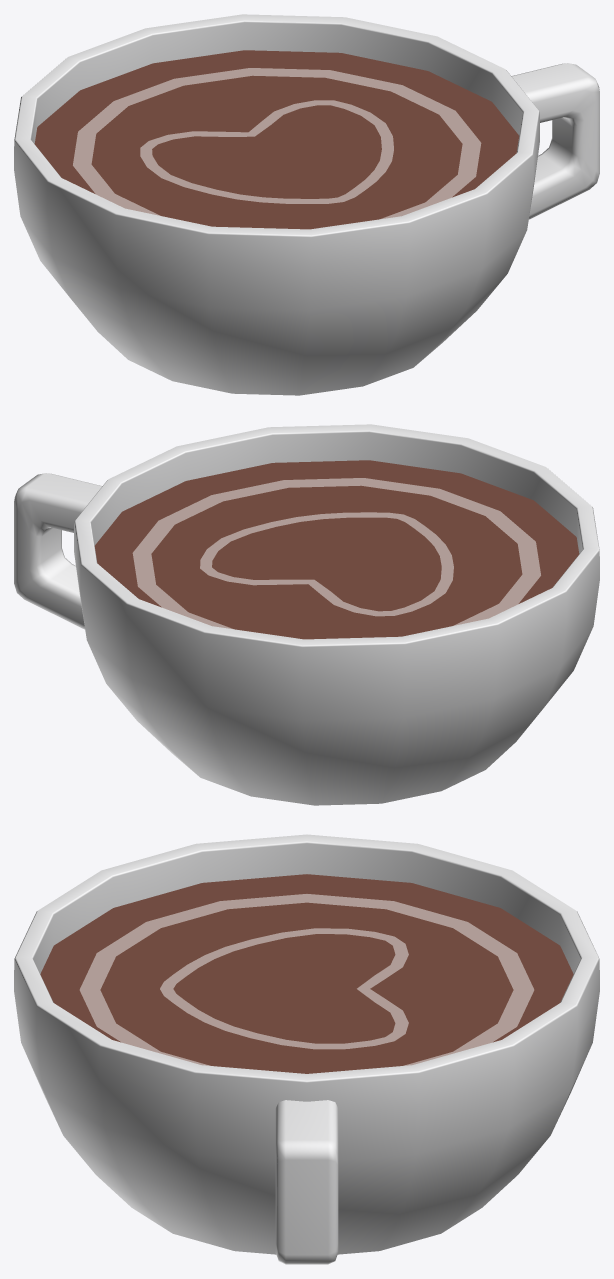
File: Store_5_Cup_Cappuccino_2.glb
3 renders of one model, top to bottom at view 1: azimuth 30°, elevation 25°; view 2: azimuth 150°, elevation 25°; view 3: azimuth 270°, elevation 25°, orthographic. The views are drawn at different scales.
Visible parts, largest first — view 1: Store_5_Cup_Cappuccino_2; view 2: Store_5_Cup_Cappuccino_2; view 3: Store_5_Cup_Cappuccino_2.
Part boxes in pixels (x1,y1,x2,y2): Store_5_Cup_Cappuccino_2: (14, 14, 599, 395); Store_5_Cup_Cappuccino_2: (14, 424, 599, 805); Store_5_Cup_Cappuccino_2: (14, 834, 599, 1264).
Bounding box in the file's own units: 0.2643 × 0.0955 × 0.224.
Materials: 1 (1 with a texture image).
